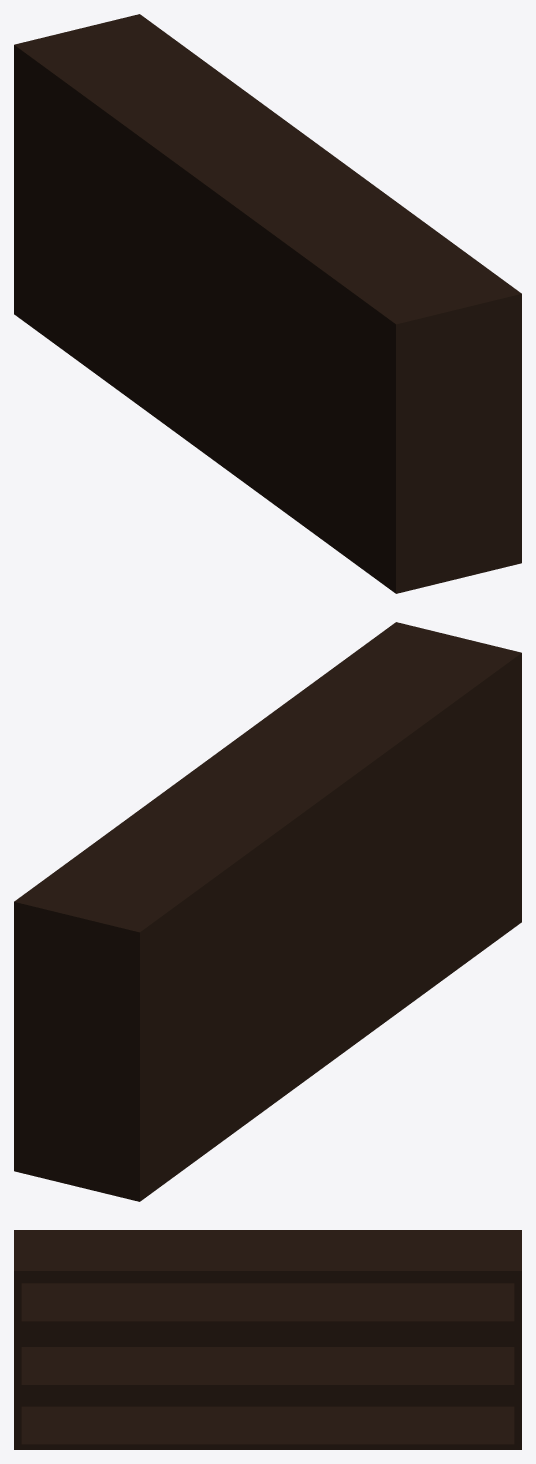
The model's file is Short BookShelf .fbx.
3 renders of one model, top to bottom at view 1: azimuth 30°, elevation 25°; view 2: azimuth 150°, elevation 25°; view 3: azimuth 270°, elevation 25°, orthographic. The views are drawn at different scales.
Visible parts, largest first — view 1: Cube; view 2: Cube; view 3: Cube.
Boxes of the visible parts, <box> form: Cube: <box>14,14,521,593</box>; Cube: <box>14,622,521,1201</box>; Cube: <box>14,1230,521,1449</box>.
Bounding box in the file's own units: 1052 × 200 × 409.
